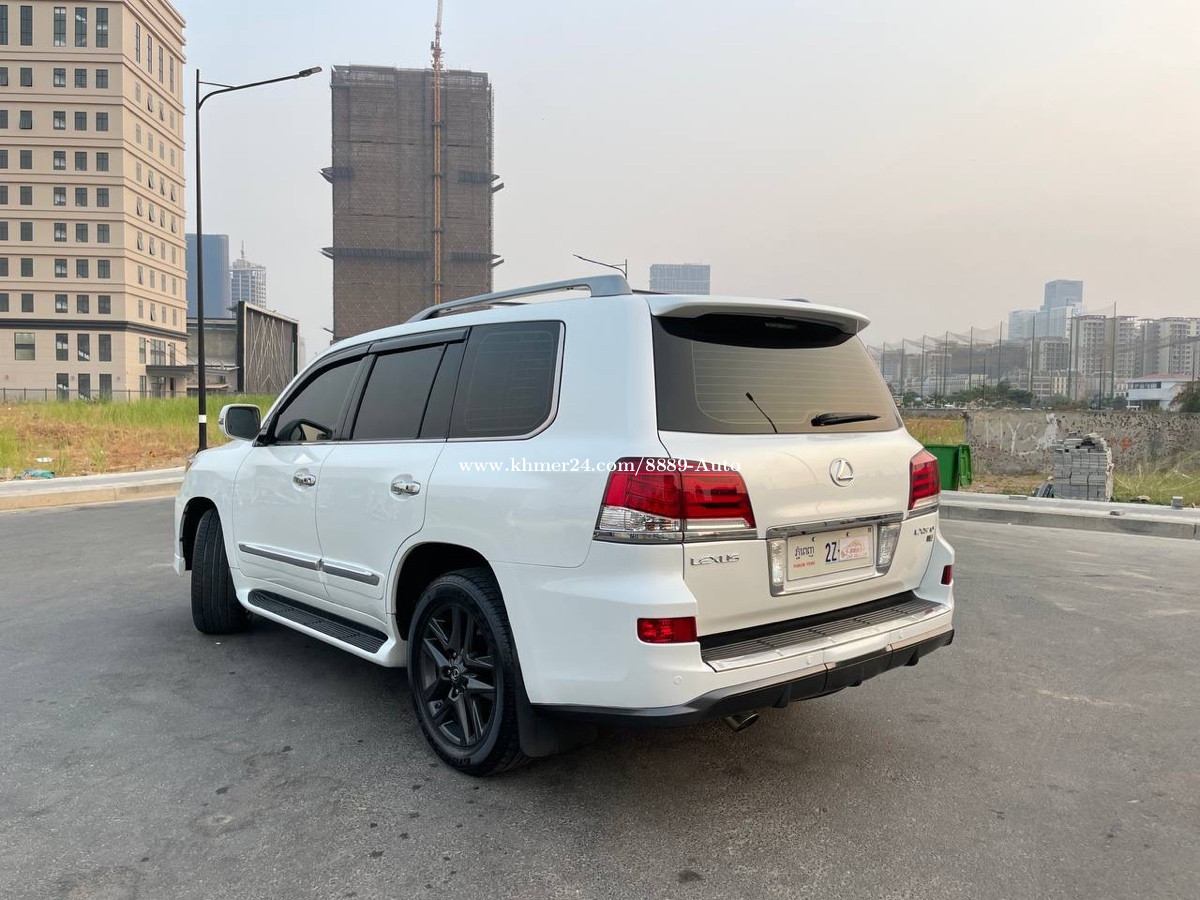car: (150, 273, 969, 779)
